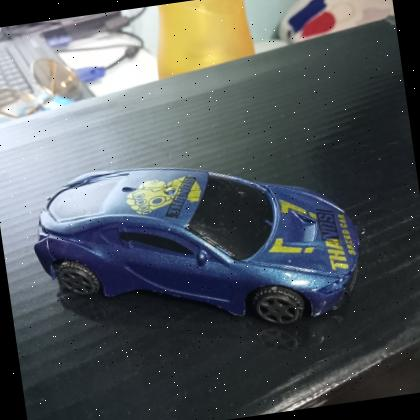Car: (21, 132, 374, 362)
